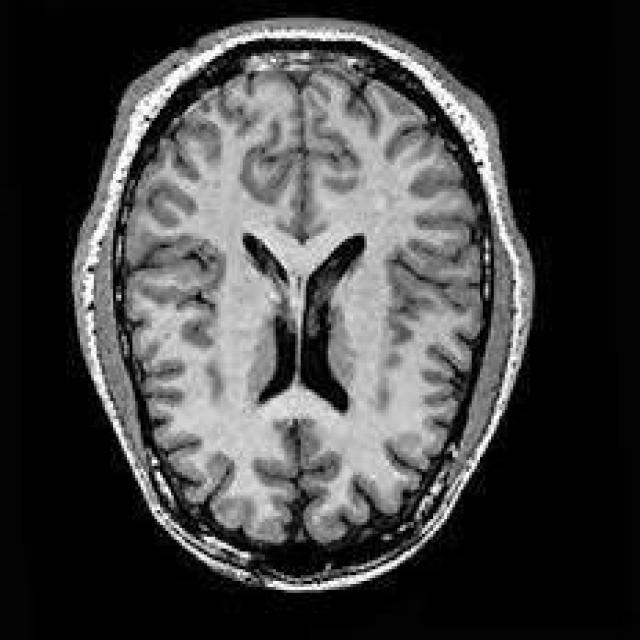no-tumor: (170, 141, 420, 485)
